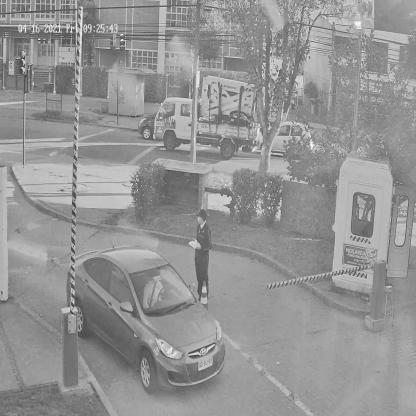Patente: (196, 357, 215, 373)
